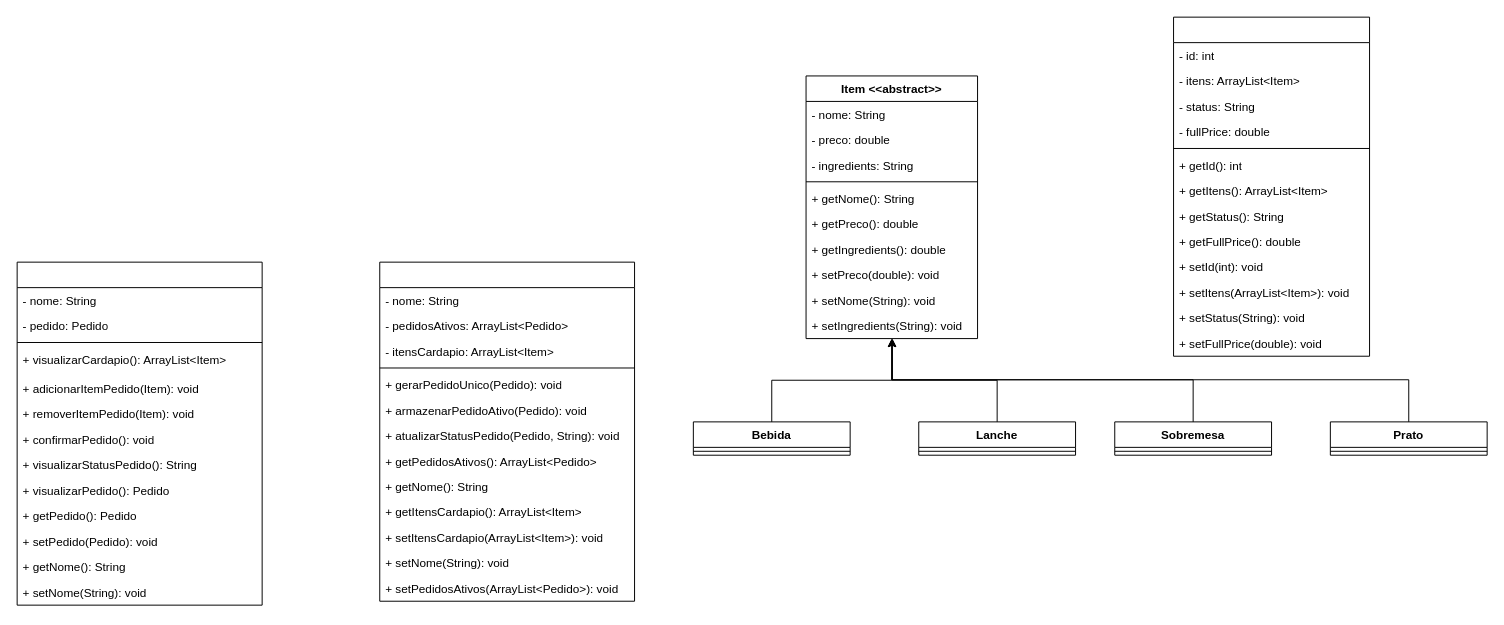
The diagram is 1504 pixels wide and 625 high, and some of its shapes have lost their labels. The box of each missing label's shape, as (x1, y1, x2, y2) in pixels:
Cliente: (16, 261, 262, 605)
Estabelecimento: (379, 261, 635, 601)
Pedido: (1173, 16, 1370, 356)
